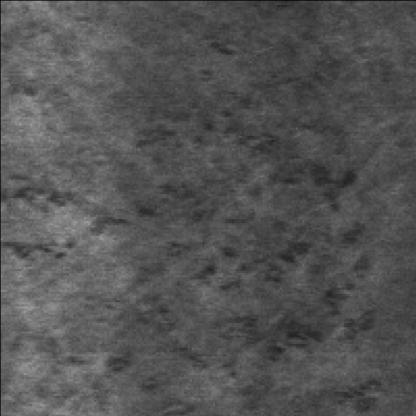rolled-in_scale: (197, 110, 381, 364), (3, 164, 140, 320)
